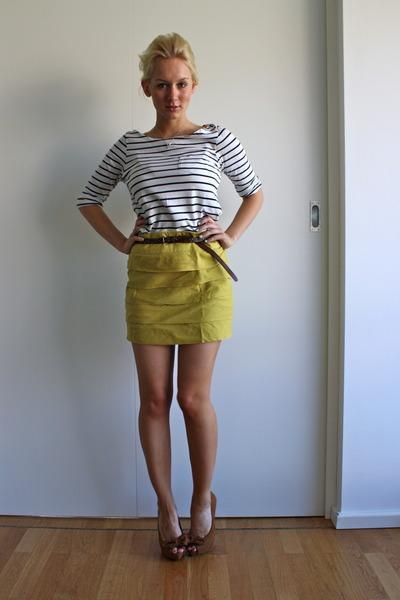shirt: (75, 129, 259, 243)
shoe: (160, 533, 215, 568)
skirt: (125, 227, 237, 347)
